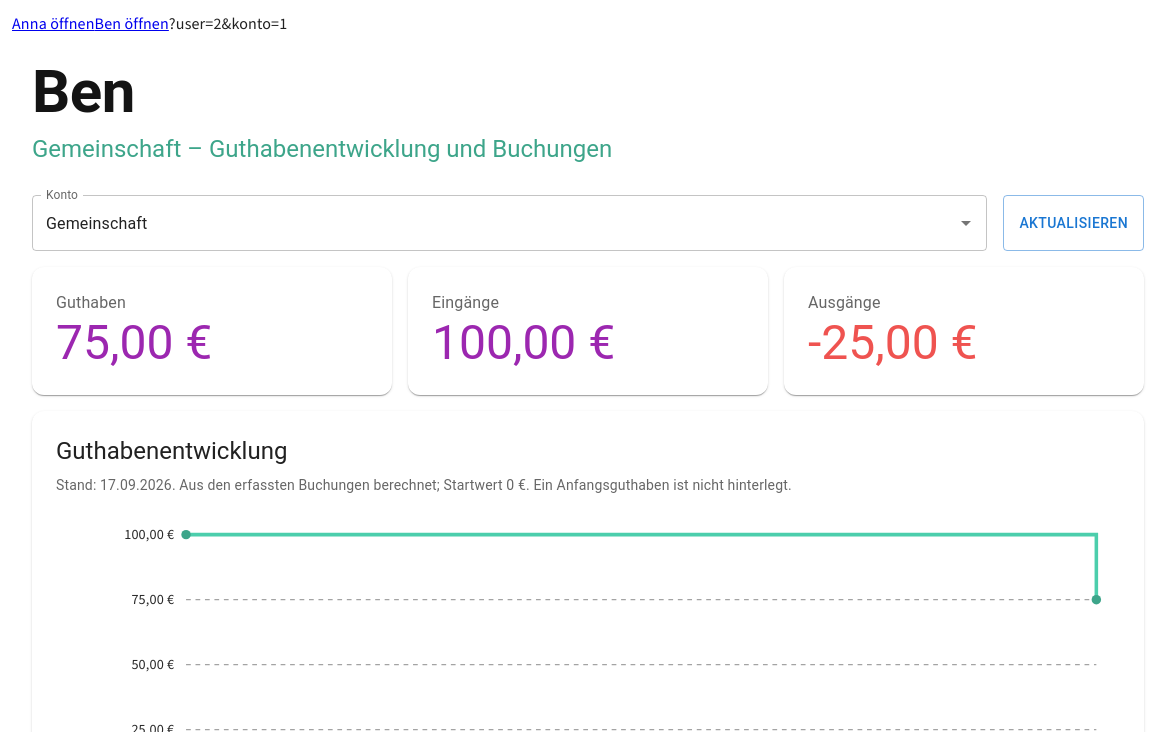
Test: only assigned accounts are offered and foreign account links are reset
The width and height of the screenshot is (1164, 732).
Step 1. Press the mouse on the dropdown labelled "Konto" → (495, 223), box left=41, top=204, right=948, bottom=242
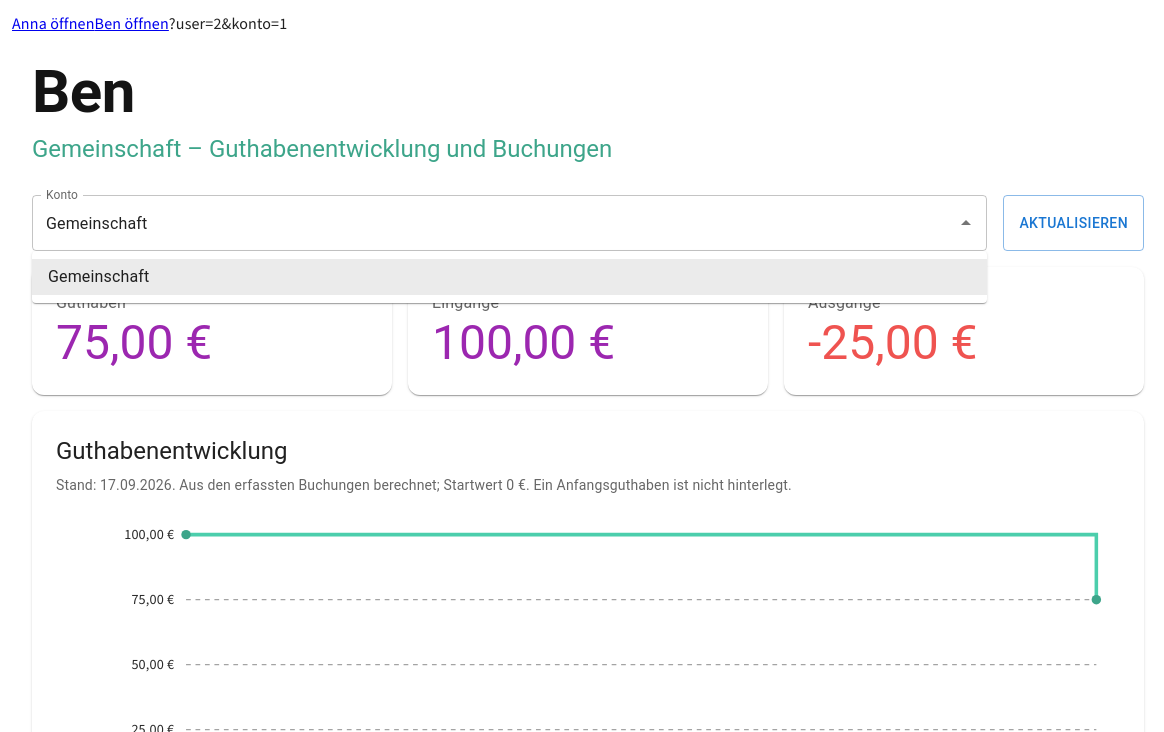
Expected: the text with test id "location" reads "?user=2&konto=1", left=169, top=13, right=287, bottom=34
Expected: the option "Gemeinschaft" is shown, left=32, top=259, right=987, bottom=295
